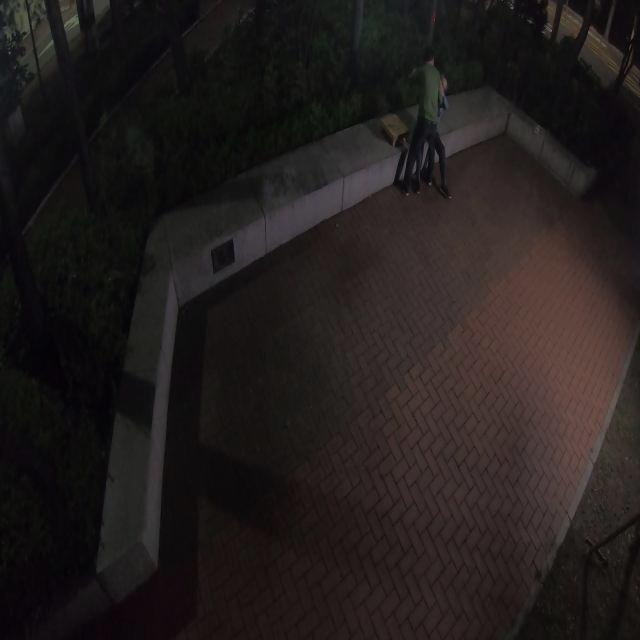fight: (406, 53, 454, 197)
